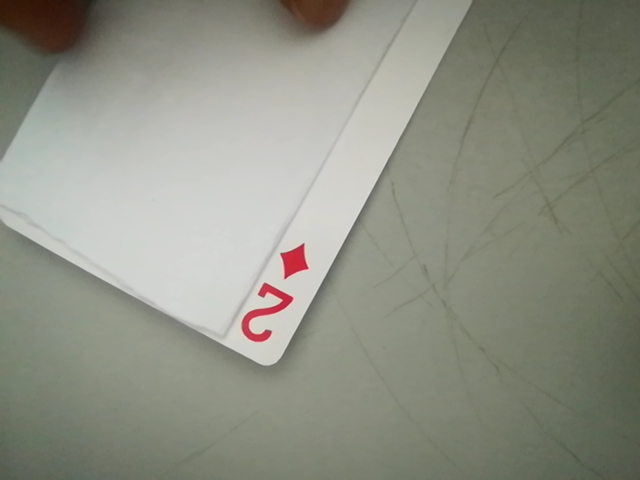fk 2: (226, 238, 322, 359)
